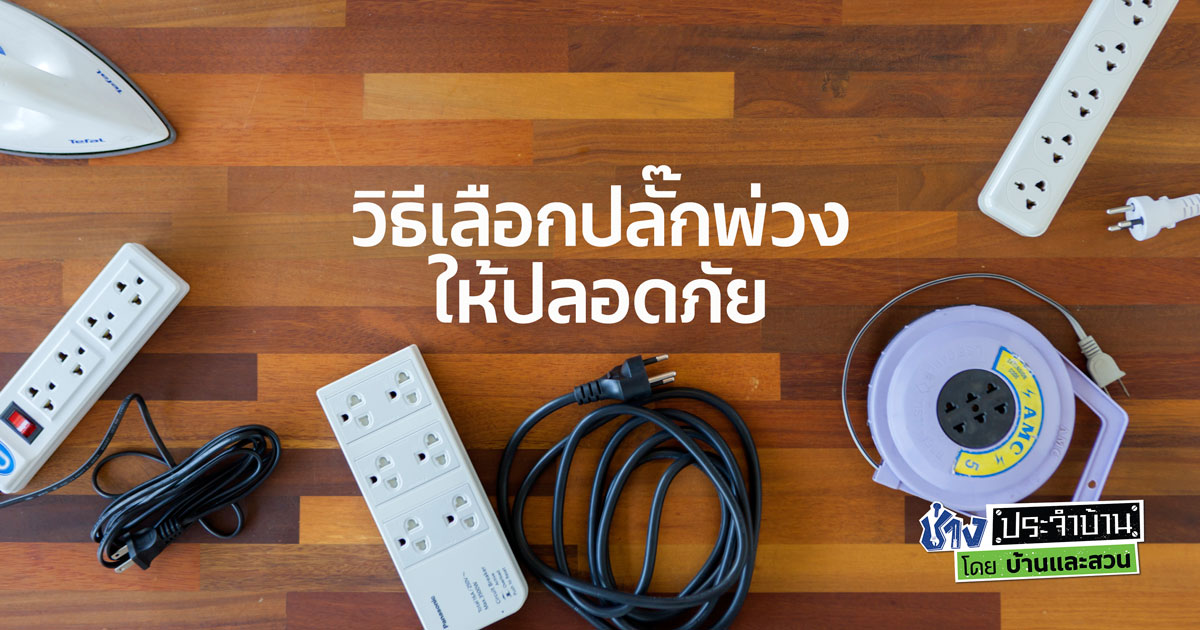Three_eye_plug: (311, 337, 541, 630), (854, 285, 1131, 513), (975, 1, 1190, 242), (1, 239, 193, 499)
